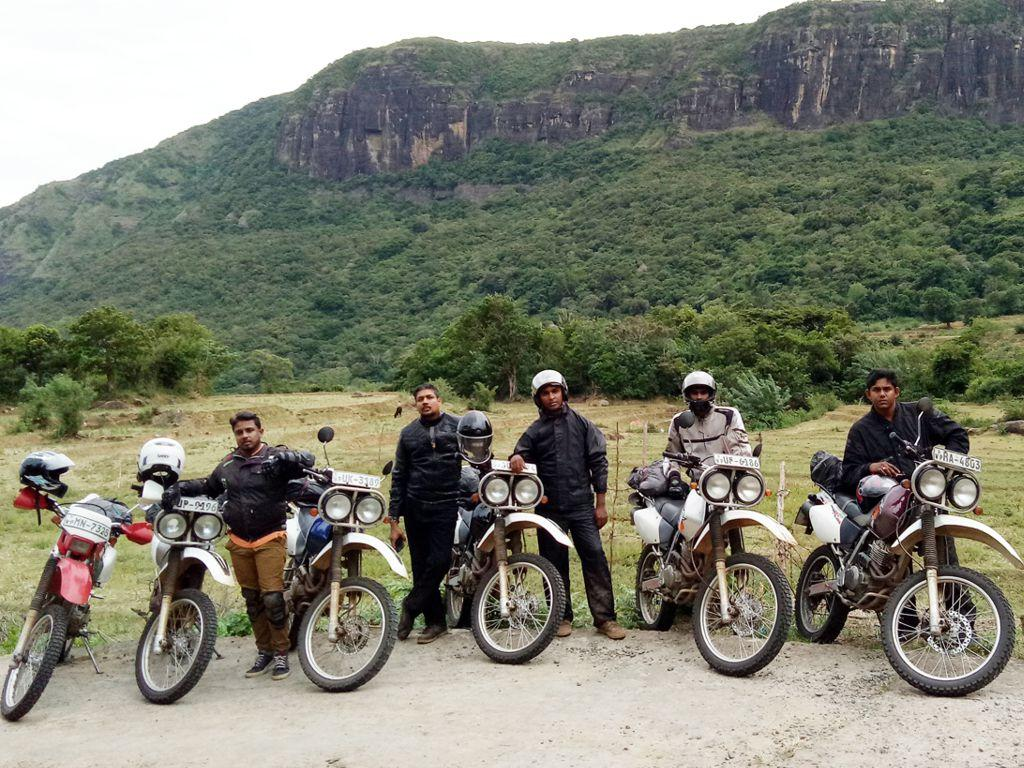motorbike: (795, 398, 1024, 697), (630, 411, 798, 677), (1, 479, 151, 722), (282, 426, 409, 690), (445, 457, 573, 665), (127, 479, 237, 704)
